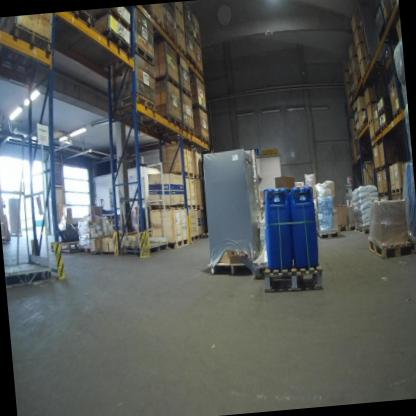pallet: (262, 262, 325, 296), (5, 20, 54, 58), (368, 234, 413, 261), (111, 91, 156, 116), (96, 6, 133, 34), (101, 27, 132, 58), (210, 258, 254, 279), (119, 241, 168, 259), (132, 42, 155, 67), (146, 199, 187, 213), (154, 73, 180, 92), (73, 9, 93, 28), (150, 11, 165, 35), (169, 168, 194, 180), (163, 114, 183, 129), (164, 25, 177, 47), (165, 241, 189, 250), (182, 122, 195, 137), (319, 231, 340, 240), (174, 2, 185, 19), (192, 103, 207, 115), (180, 86, 192, 101), (197, 134, 210, 147), (185, 234, 201, 244), (175, 22, 186, 36), (177, 42, 187, 57), (185, 22, 194, 38), (364, 59, 372, 76), (354, 226, 369, 235), (187, 53, 196, 68), (79, 245, 91, 256), (392, 107, 402, 120), (186, 204, 200, 213), (195, 63, 204, 77), (379, 120, 390, 131), (365, 100, 378, 109), (352, 25, 361, 37), (355, 40, 363, 53), (367, 118, 377, 128), (358, 56, 367, 67), (192, 173, 204, 181), (378, 106, 386, 118), (10, 231, 23, 238), (357, 107, 367, 116), (194, 36, 201, 48), (198, 232, 207, 241), (349, 54, 358, 63), (391, 188, 403, 194), (391, 0, 399, 9), (374, 127, 381, 137), (353, 81, 359, 92), (381, 164, 389, 172), (338, 226, 348, 232), (379, 191, 389, 197), (348, 223, 355, 231), (375, 166, 382, 174), (360, 73, 367, 81), (364, 116, 368, 128), (359, 123, 365, 131), (352, 67, 357, 76), (354, 117, 359, 126), (357, 127, 362, 135), (370, 135, 375, 142), (356, 150, 361, 157)
pallet_truck: (99, 197, 106, 215)
